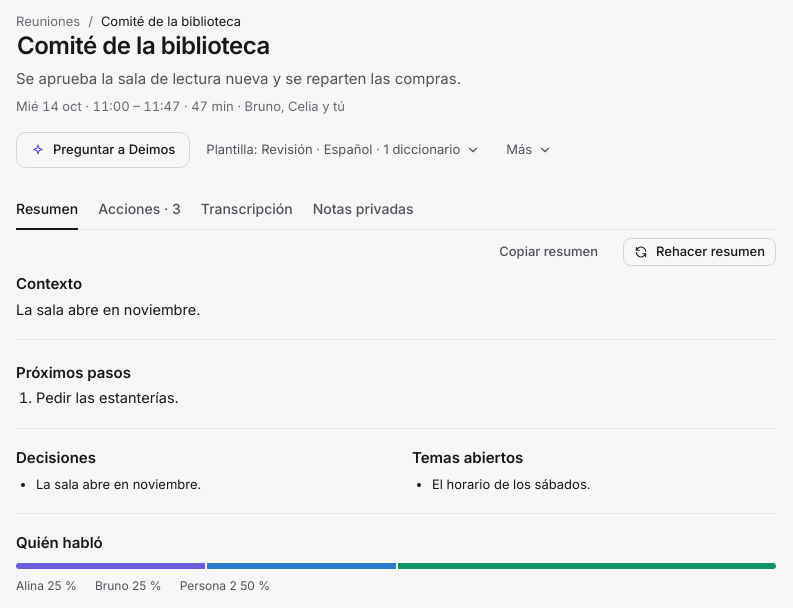
Scenario: every «Copiar» says it copied › in Acciones · 3, «Copiar todas» → «✓ Copiado»
Click the tab "Acciones · 3" at (140, 210), box [98,190,181,230]
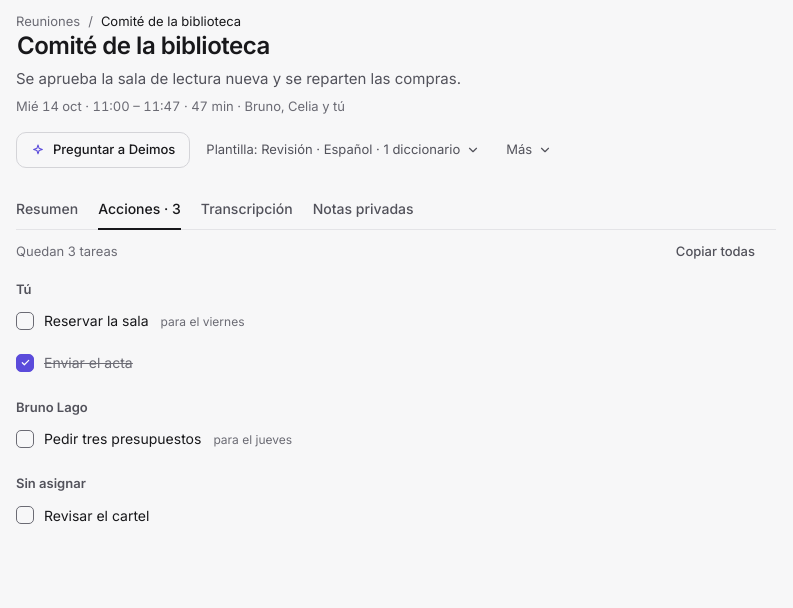
Click the button "Copiar todas" at (715, 252), box [655,238,776,266]
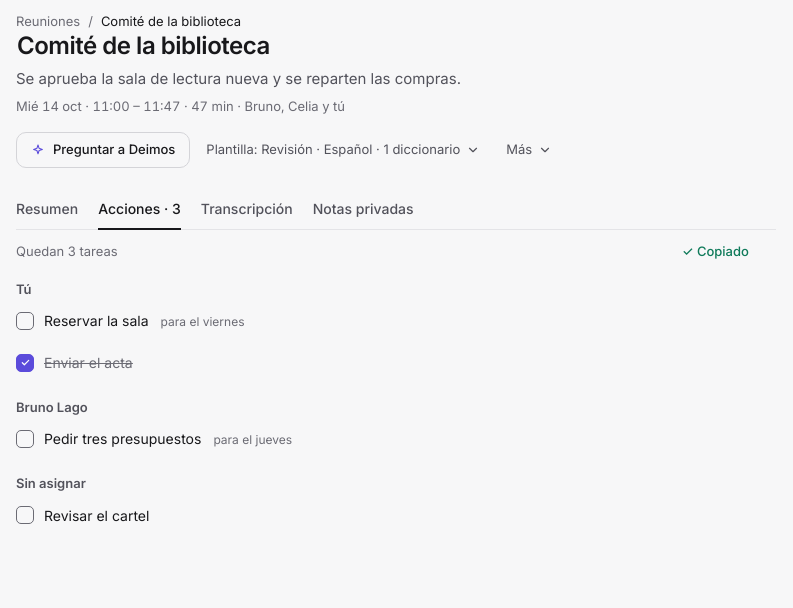
Check: the button "✓ Copiado" is shown, box [655,238,776,266]
